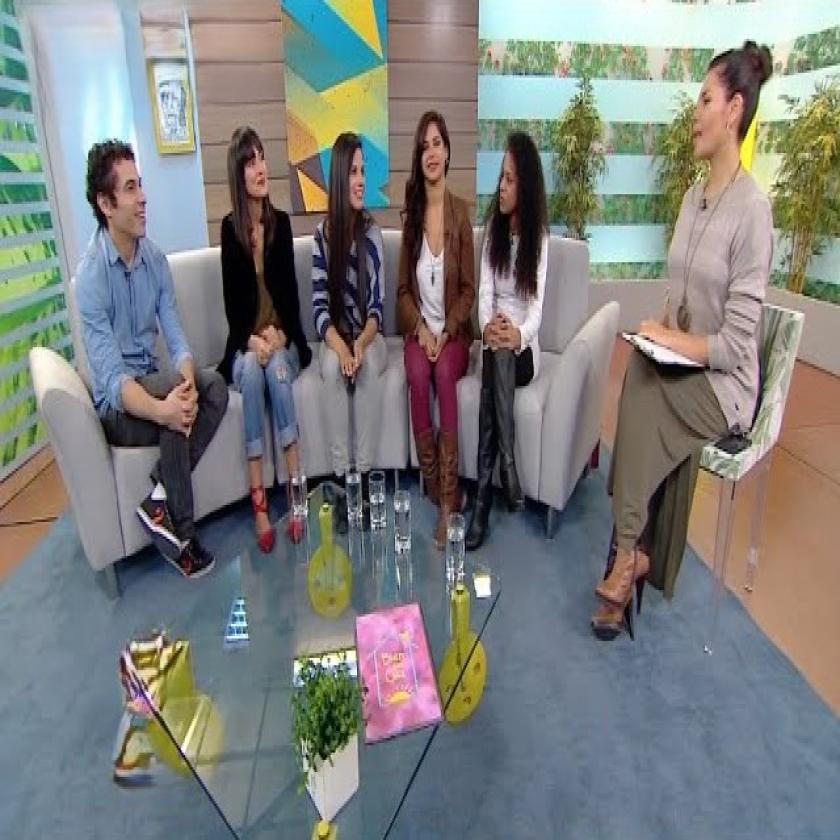Sin_casco: (687, 29, 772, 206), (78, 123, 158, 257), (495, 123, 548, 247), (223, 118, 276, 222), (408, 102, 456, 208), (329, 126, 372, 224)
